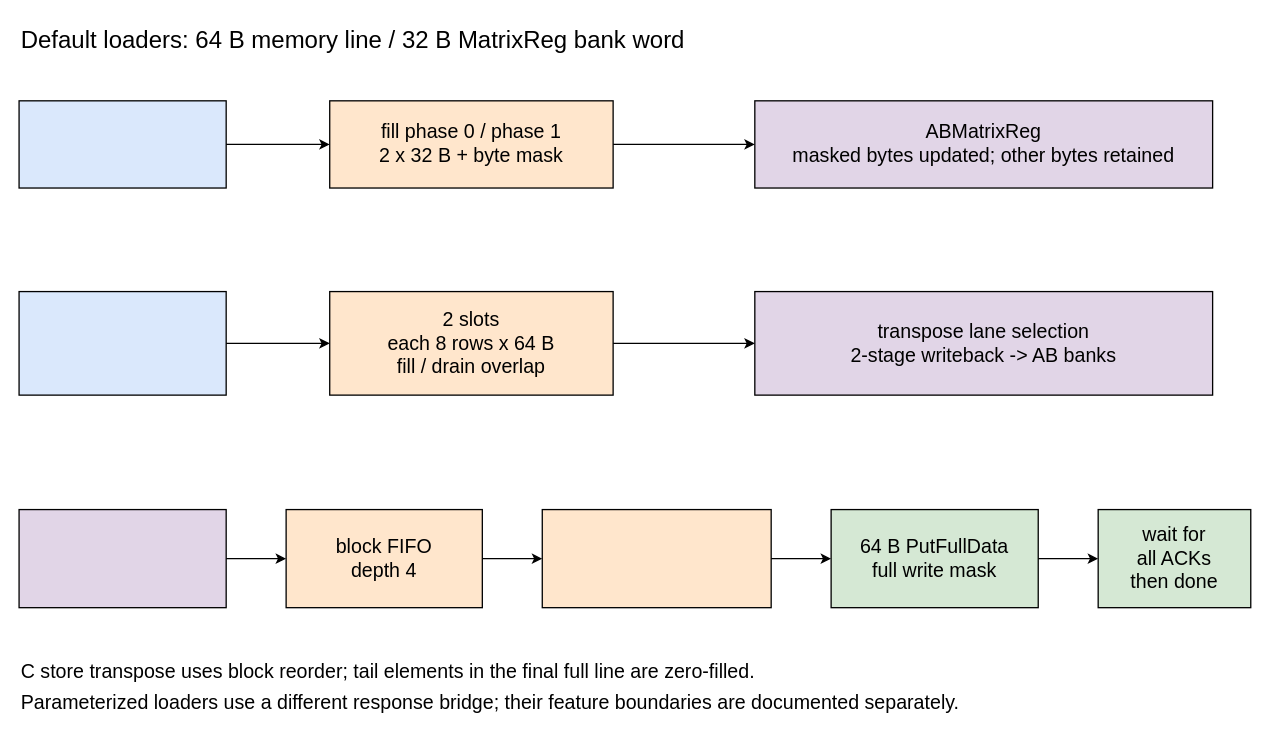
Image size: 1271x734. Some labels were removed from this diagram. Here are the shapes that lost their labels. From the top down, the centre of each, then its label:
At pixel 122 144: "A/B ordinary read 64 B response".
At pixel 122 342: "A/B transpose shared AML engine".
At pixel 122 558: "C MatrixReg 8 x 8 block read".
At pixel 656 558: "reorder buffer 2 x 512 B".
